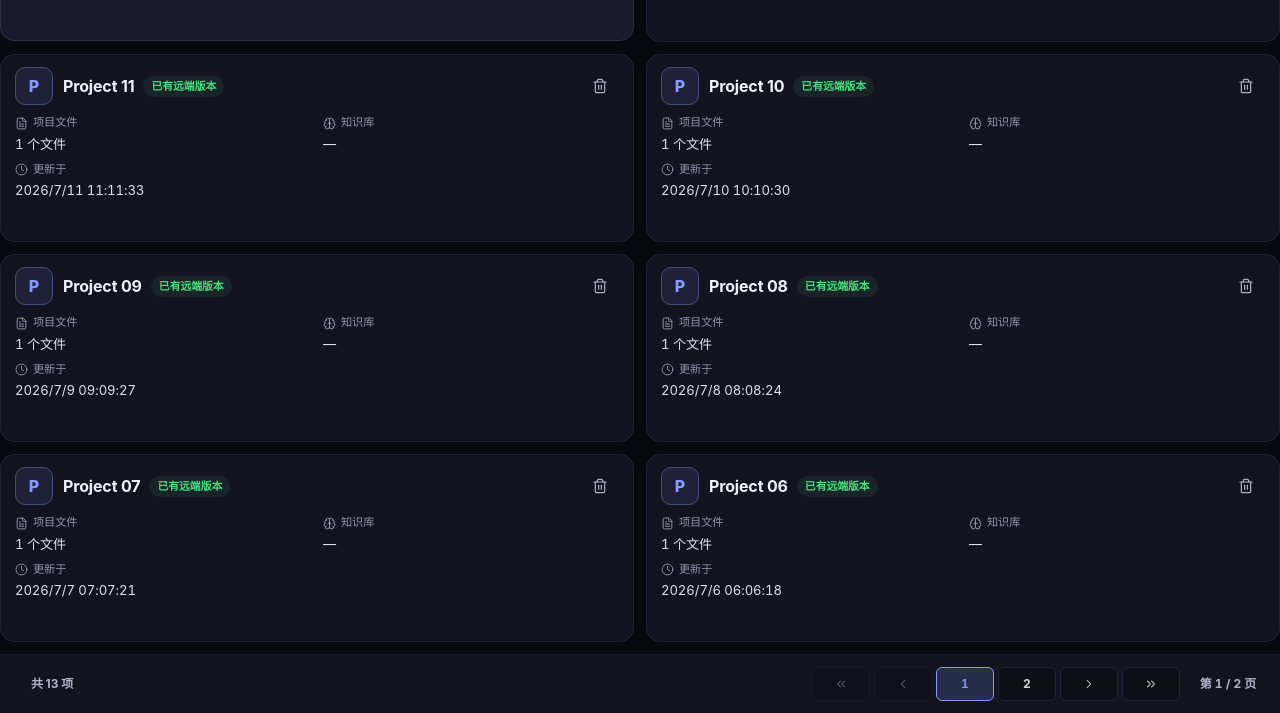
Test: ProjectRegistry list UX › shows newest projects first with second-precision timestamps and pages at 6
(page scrolled)
Expected: the text "第 1 / 2 页" is shown, [1200,676,1256,691]
Step 1. Click the button named "下一页" → (1089, 684), box [1060,667,1118,701]
(page scrolled)
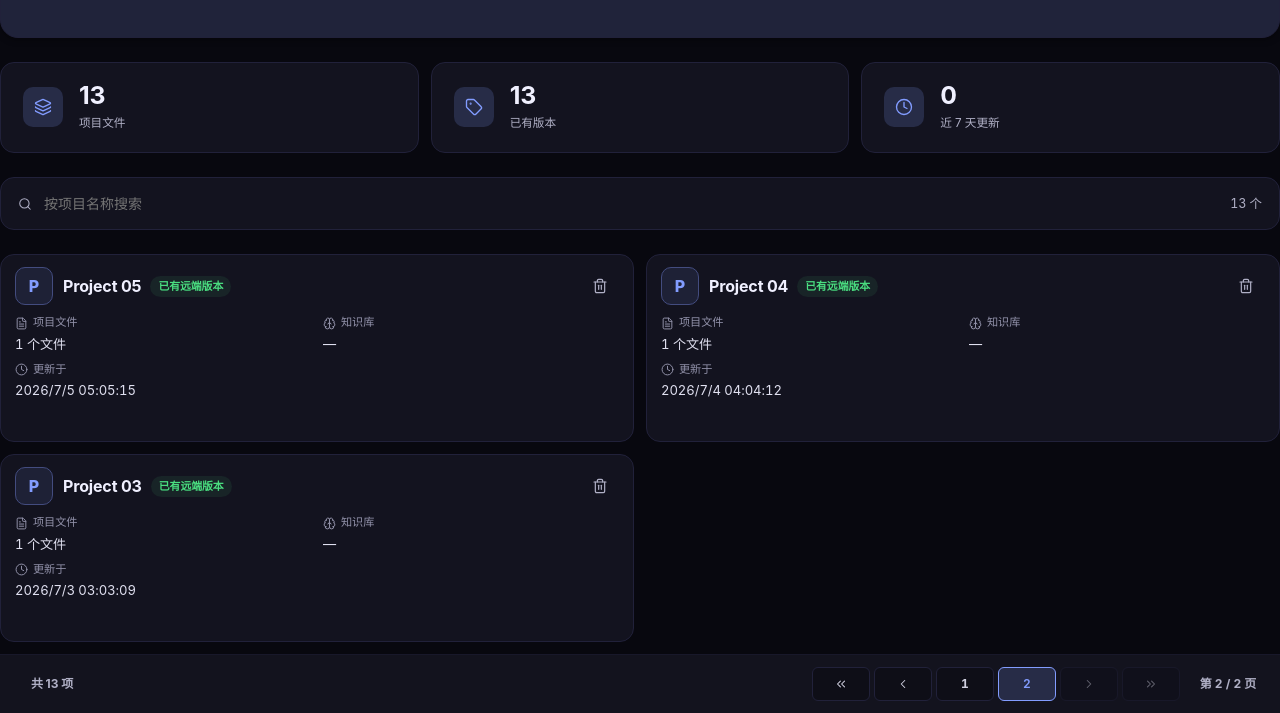
Expected: the text "第 2 / 2 页" is shown, [1200,676,1256,691]
